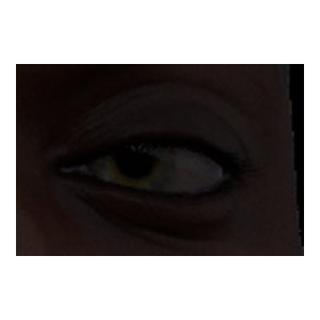pupil: (117, 140, 154, 177)
